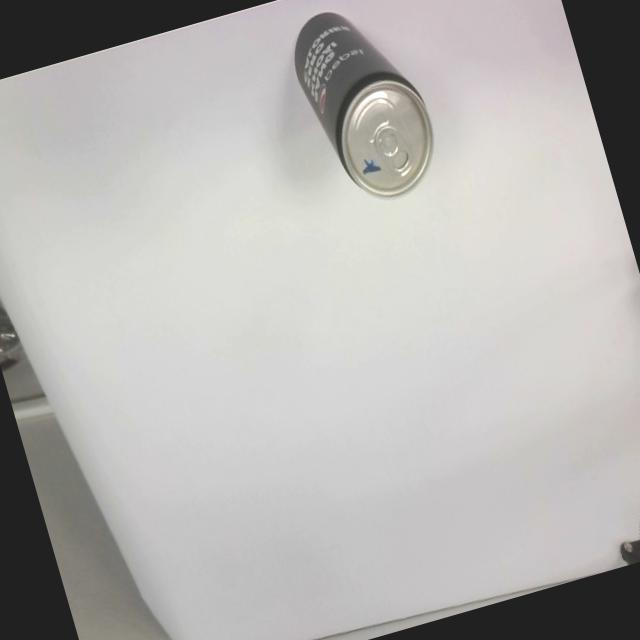debris: (280, 0, 449, 216)
